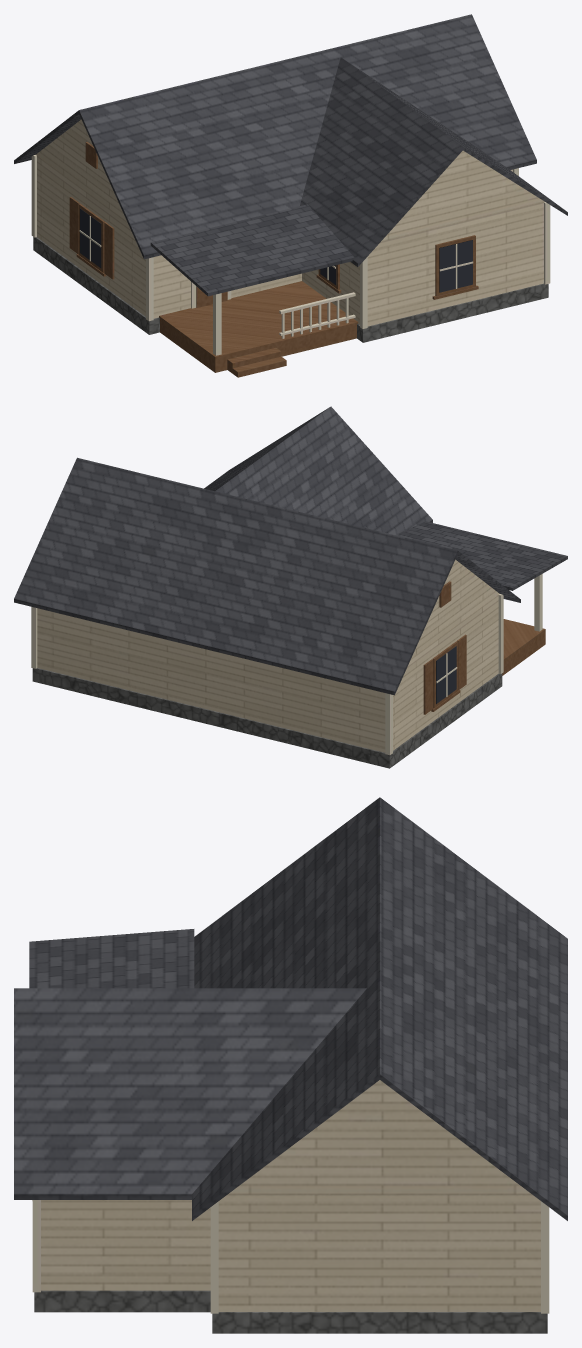
The model's file is house_02.glb.
3 renders of one model, top to bottom at view 1: azimuth 30°, elevation 25°; view 2: azimuth 150°, elevation 25°; view 3: azimuth 270°, elevation 25°, orthographic. The views are drawn at different scales.
Parts seen in each view (by area): view 1: house_02; view 2: house_02; view 3: house_02.
Boxes of the visible parts, bbox=[...] form: house_02: bbox=[14, 14, 567, 377]; house_02: bbox=[14, 406, 567, 768]; house_02: bbox=[14, 797, 567, 1333].
Size of the model in its own units: 12.9 by 5.82 by 10.9.
Materials: 1 (1 with a texture image).
